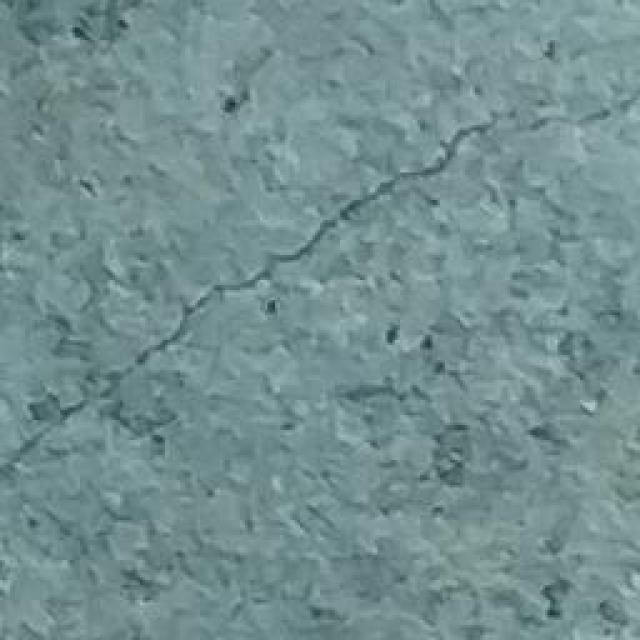Diagonal: (0, 88, 640, 484)
